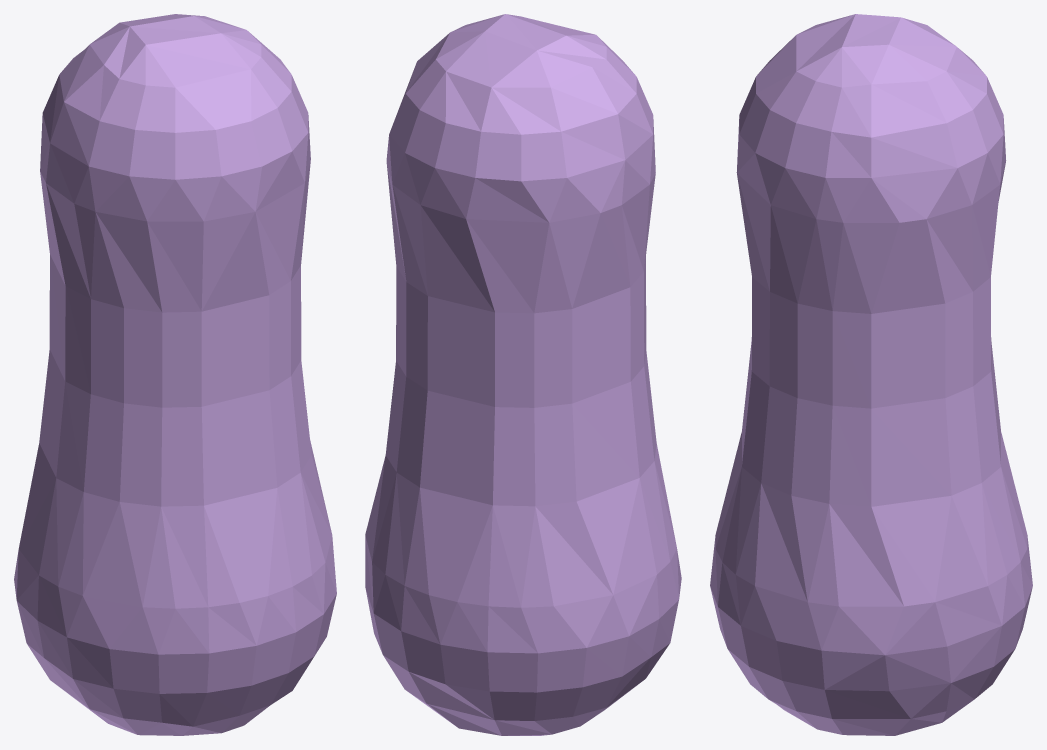
The picture shows the model from 3 angles, left to right: view 1: azimuth 30°, elevation 25°; view 2: azimuth 150°, elevation 25°; view 3: azimuth 270°, elevation 25°; orthographic projection.
Parts seen in each view (by area): view 1: th_proximal; view 2: th_proximal; view 3: th_proximal.
Boxes of the visible parts, bbox=[...] form: th_proximal: bbox=[14, 14, 336, 735]; th_proximal: bbox=[365, 14, 681, 735]; th_proximal: bbox=[710, 14, 1032, 735].
Size of the model in its own units: 25.68 by 25.96 by 60.85.
